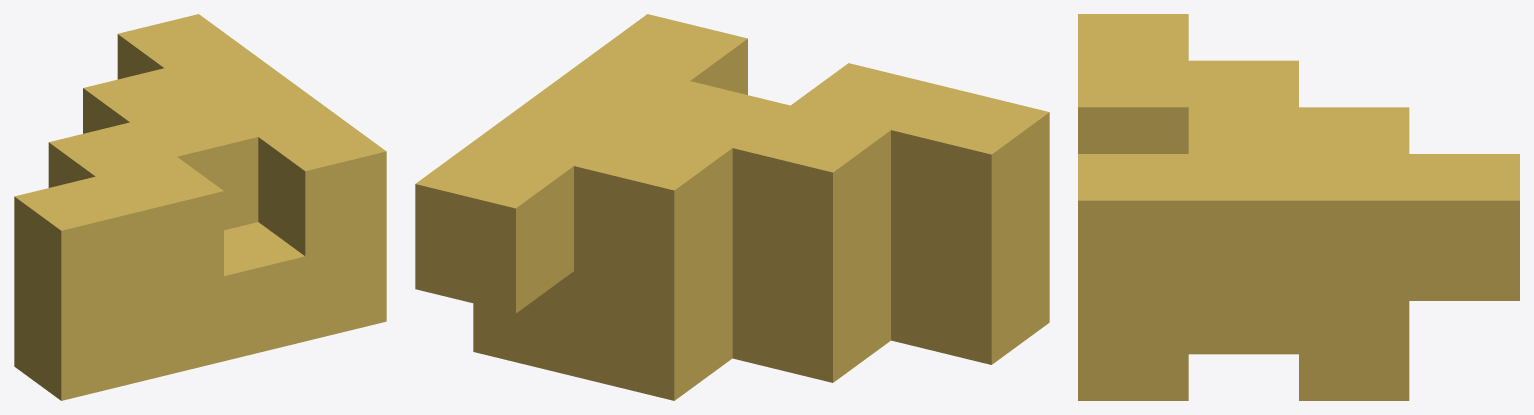
File: Cheese.obj
The picture shows the model from 3 angles, left to right: view 1: azimuth 30°, elevation 25°; view 2: azimuth 150°, elevation 25°; view 3: azimuth 270°, elevation 25°; orthographic projection. The views are drawn at different scales.
Parts seen in each view (by area): view 1: Cheese; view 2: Cheese; view 3: Cheese.
Part boxes in pixels (box(x1,y1,x2,y2)): Cheese: box(14, 14, 386, 400); Cheese: box(415, 14, 1049, 400); Cheese: box(1078, 14, 1519, 400).
Bounding box in the file's own units: 4 × 2 × 4.
Materials: 1 (1 with a texture image).
